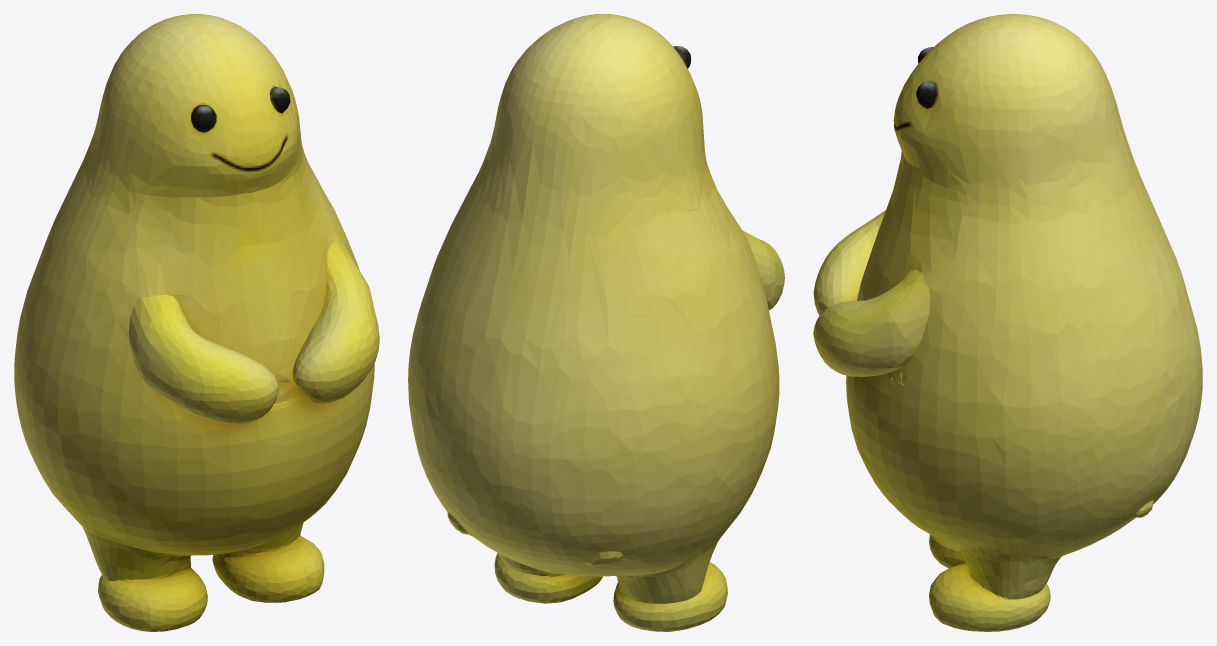
The model's file is frog.glb.
3 renders of one model, left to right at view 1: azimuth 30°, elevation 25°; view 2: azimuth 150°, elevation 25°; view 3: azimuth 270°, elevation 25°, orthographic. The views are drawn at different scales.
Visible parts, largest first — view 1: geometry_0; view 2: geometry_0; view 3: geometry_0.
Boxes of the visible parts, x1,y1,x2,y2 form: geometry_0: [14, 14, 379, 631]; geometry_0: [408, 14, 784, 631]; geometry_0: [813, 14, 1202, 631].
Bounding box in the file's own units: 0.0503 × 0.086 × 0.0536.
1 material, 1 textured.
